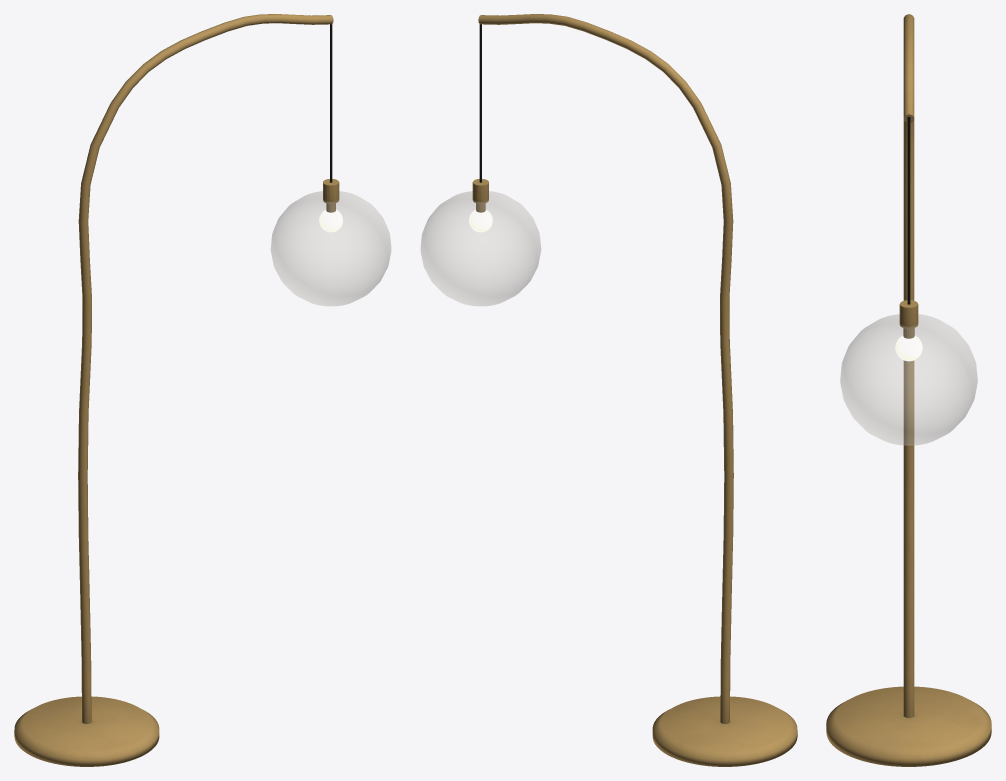
The model's file is glass-globe.glb.
The picture shows the model from 3 angles, left to right: view 1: azimuth 30°, elevation 25°; view 2: azimuth 150°, elevation 25°; view 3: azimuth 270°, elevation 25°; orthographic projection. The views are drawn at different scales.
Visible parts, largest first — view 1: brass, glass_shade; view 2: brass, glass_shade; view 3: brass, glass_shade, cord, bulb.
Boxes of the visible parts, x1,y1,x2,y2 form: brass: [14, 14, 339, 766]; glass_shade: [271, 191, 390, 305]; brass: [472, 14, 797, 766]; glass_shade: [420, 191, 540, 305]; brass: [826, 14, 991, 766]; glass_shade: [840, 314, 977, 445]; cord: [907, 117, 910, 304]; bulb: [895, 335, 922, 361].
Size of the model in its own units: 1.03 by 1.86 by 0.36.
Materials: 4 (1 with a texture image).
